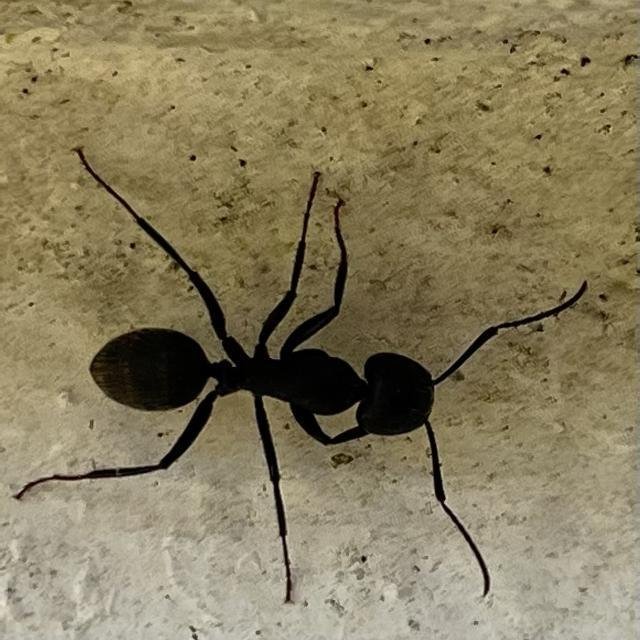Camponotus: (59, 274, 467, 480)
